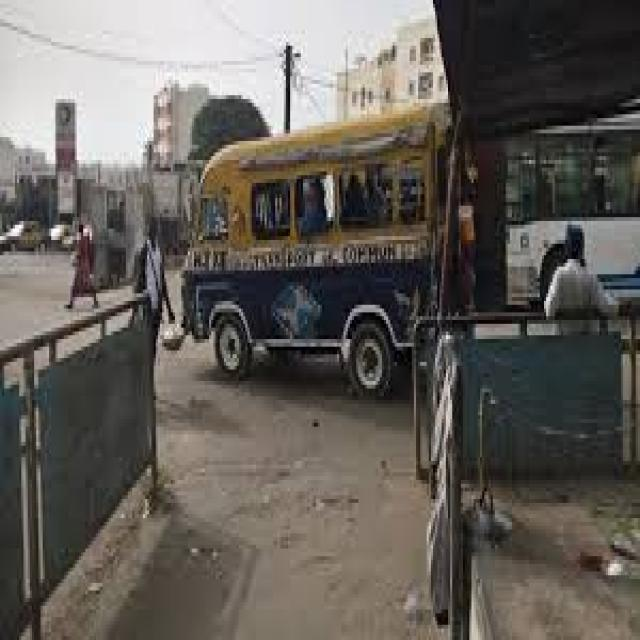car rapide: (185, 110, 435, 392)
